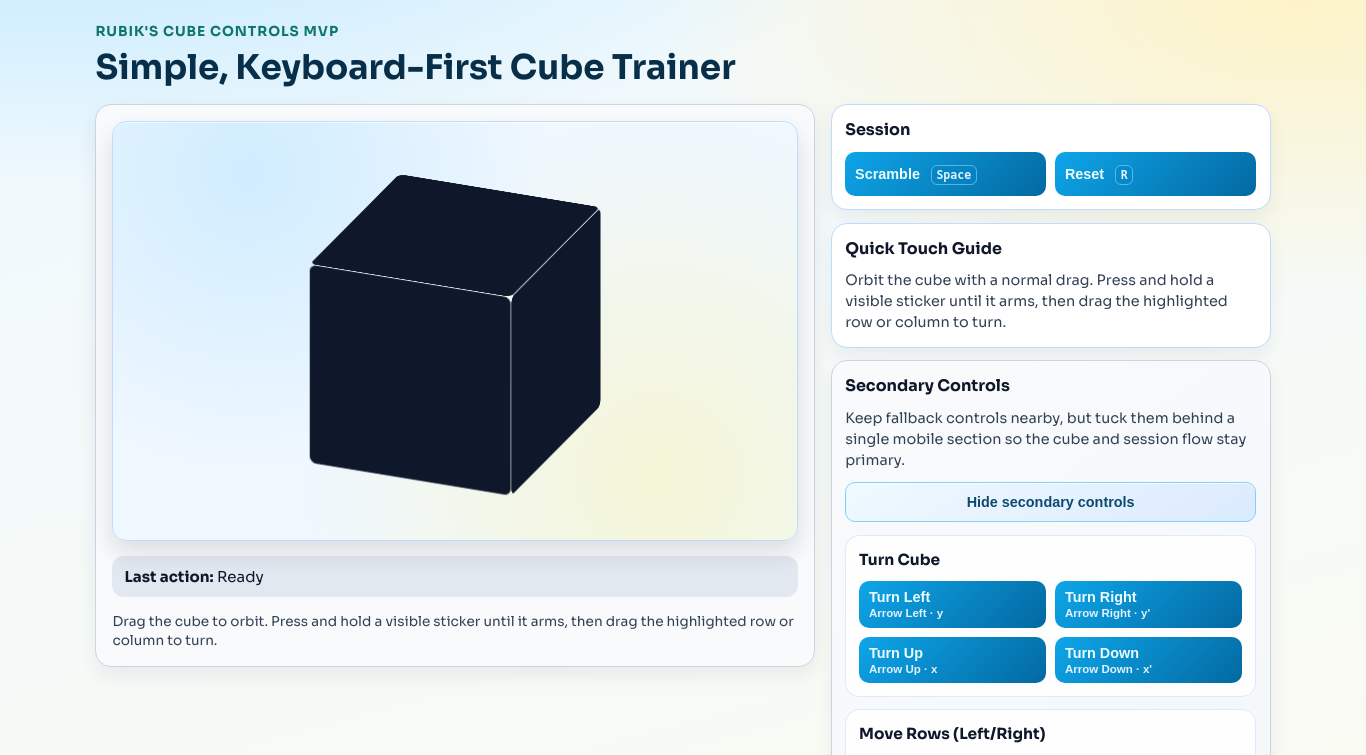
Test: App smoke flows › handles scramble and reset from control buttons
What coordinates should you click on to do the following:
click the button "Scramble Space"
I would click on:
 (946, 174)
Its box is [845,152,1046,196].
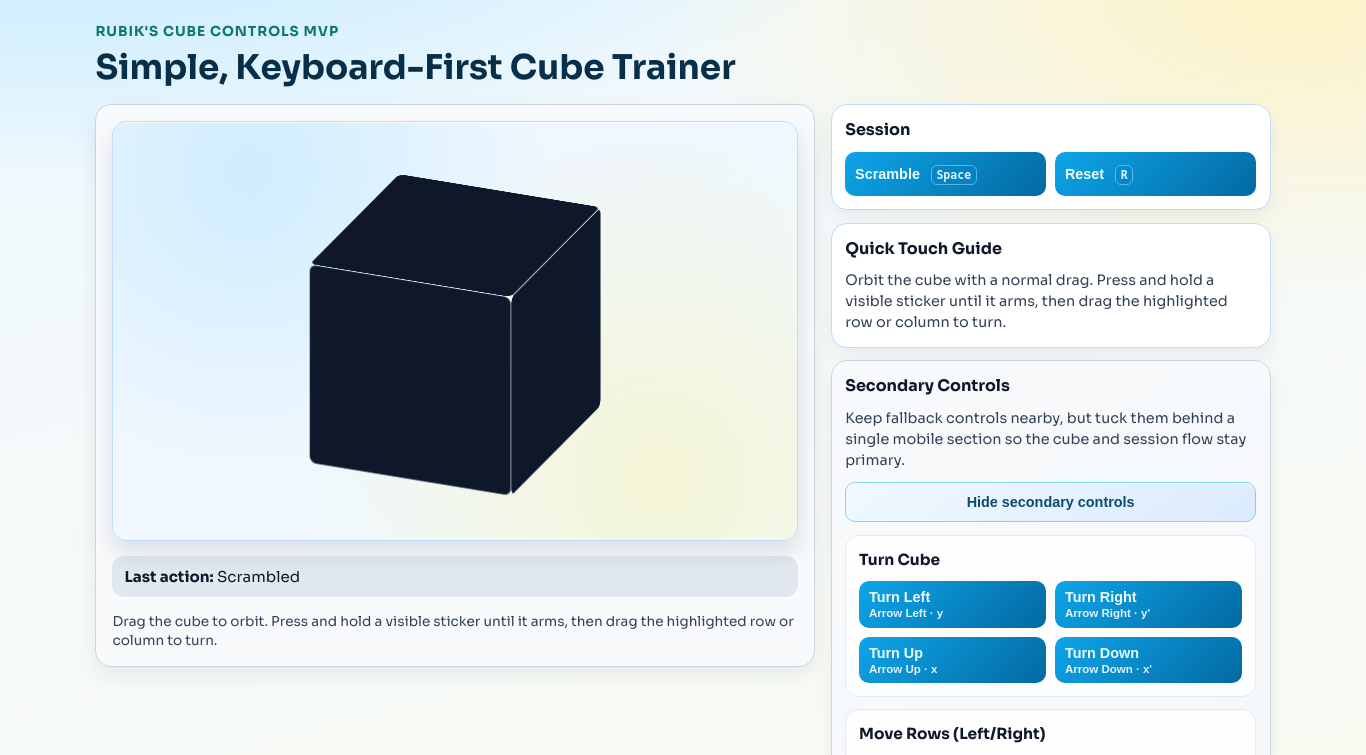
Expected: the text "Last action: Scrambled" is shown, [112,556,798,597]
What coordinates should you click on to do the following:
click the button "Reset R"
I would click on:
 (1156, 174)
Its box is [1055,152,1256,196].
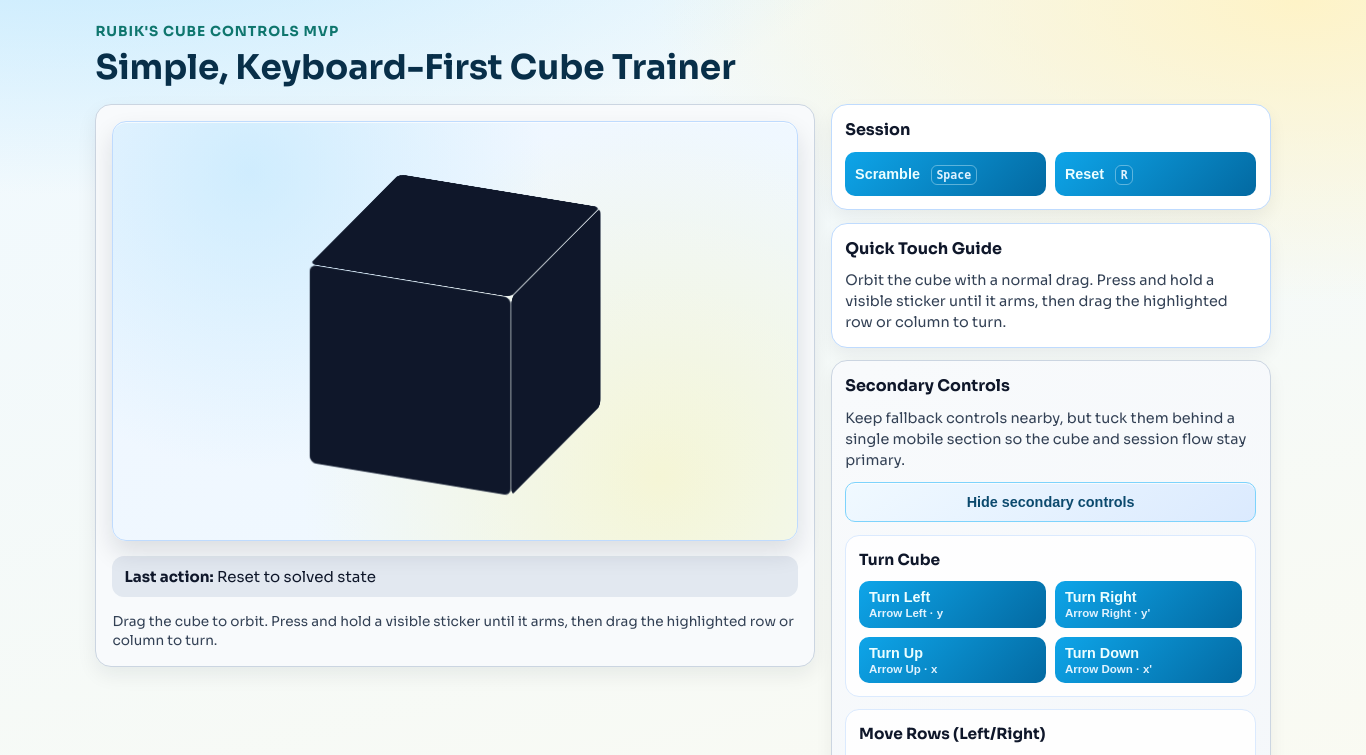
Expected: the text "Last action: Reset to solved state" is shown, [112,556,798,597]
